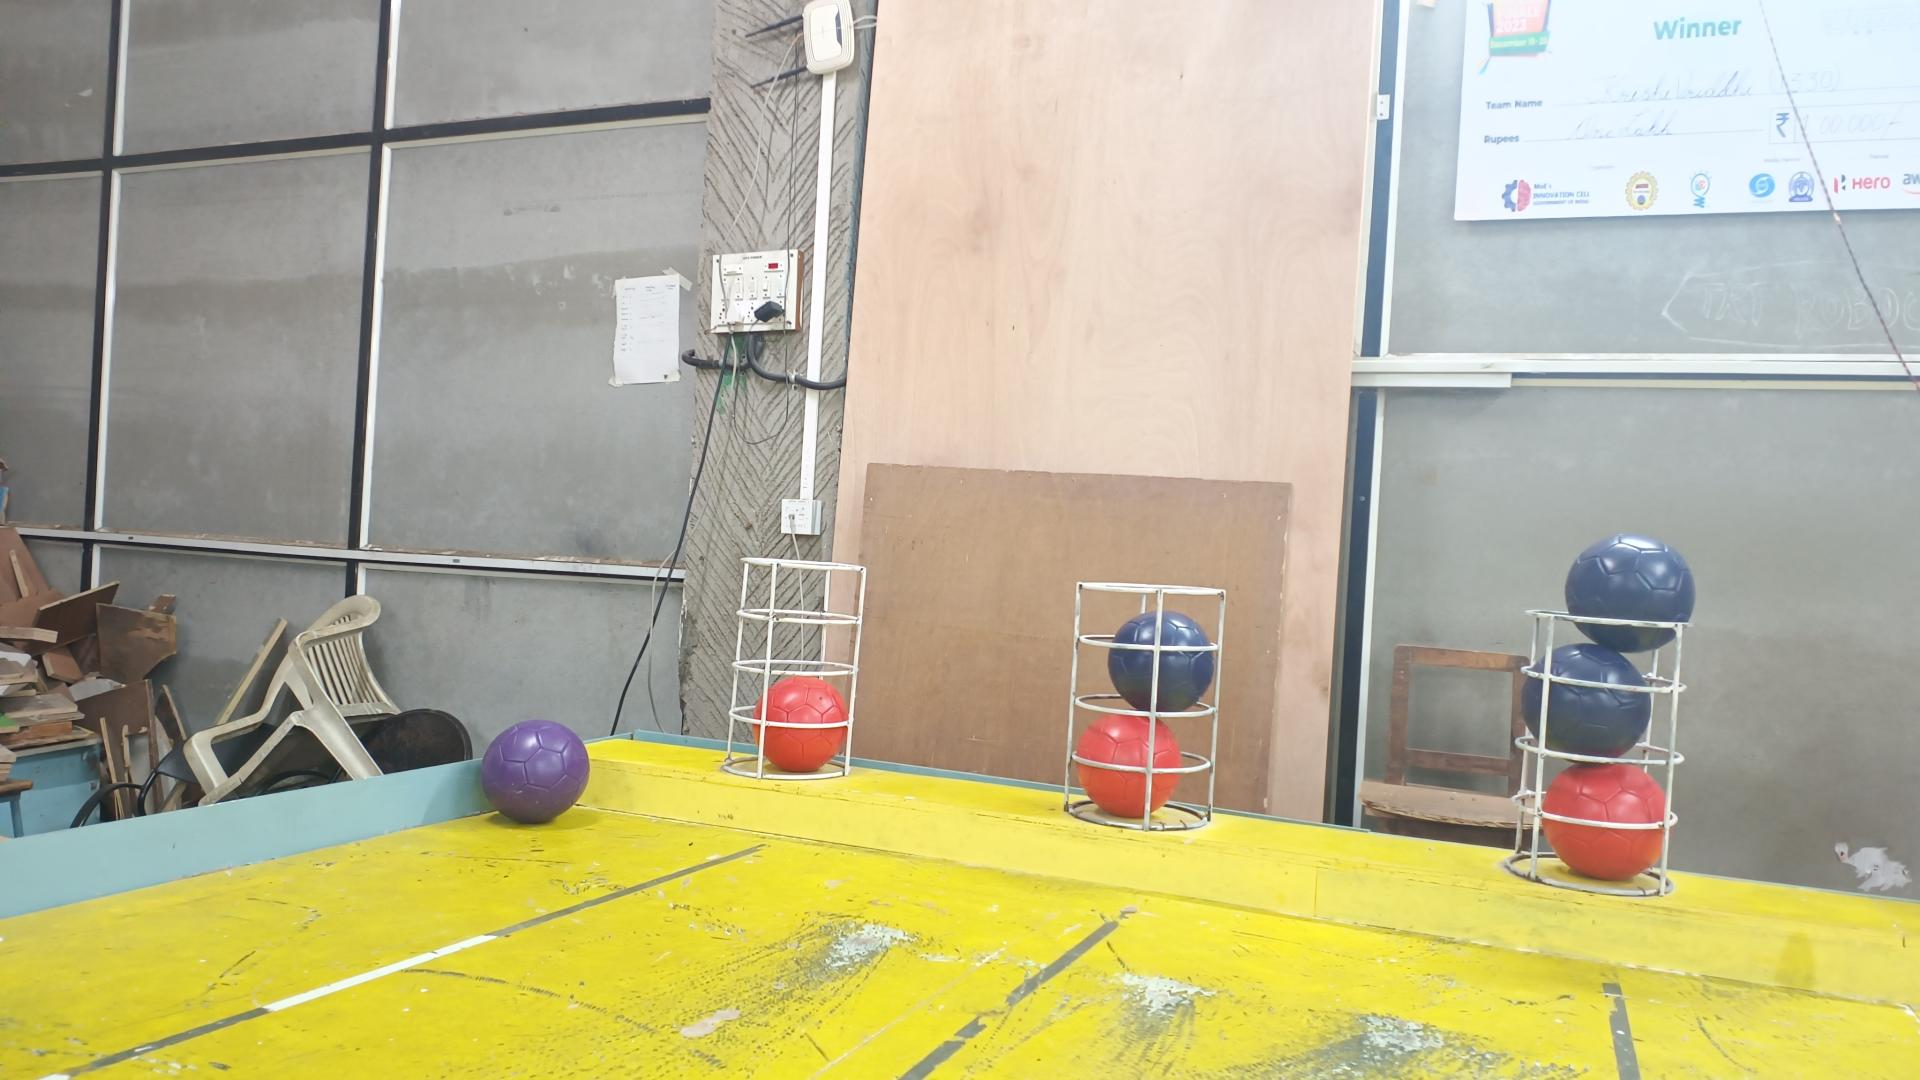dhoka: (1563, 534, 1695, 654), (1523, 642, 1654, 758), (1106, 611, 1215, 712)
laale: (1540, 764, 1668, 880), (1072, 712, 1180, 820), (750, 674, 848, 775)
